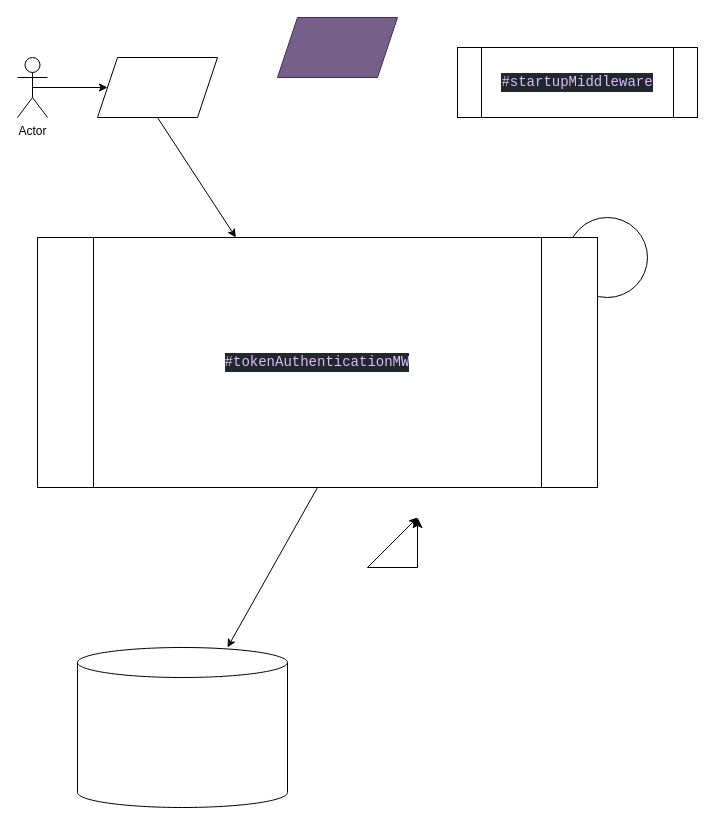
This 715x825 diagram has some shape labels left out. The centre of each missing label's shape, as x and y in pixels:
"get `/login`" goes at (x=157, y=87).
"tokenMW" goes at (x=337, y=47).
